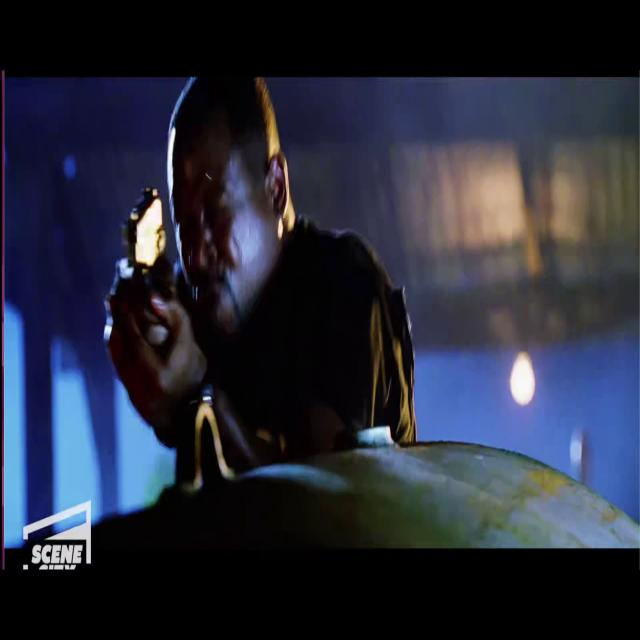weapons: (112, 148, 175, 365)
